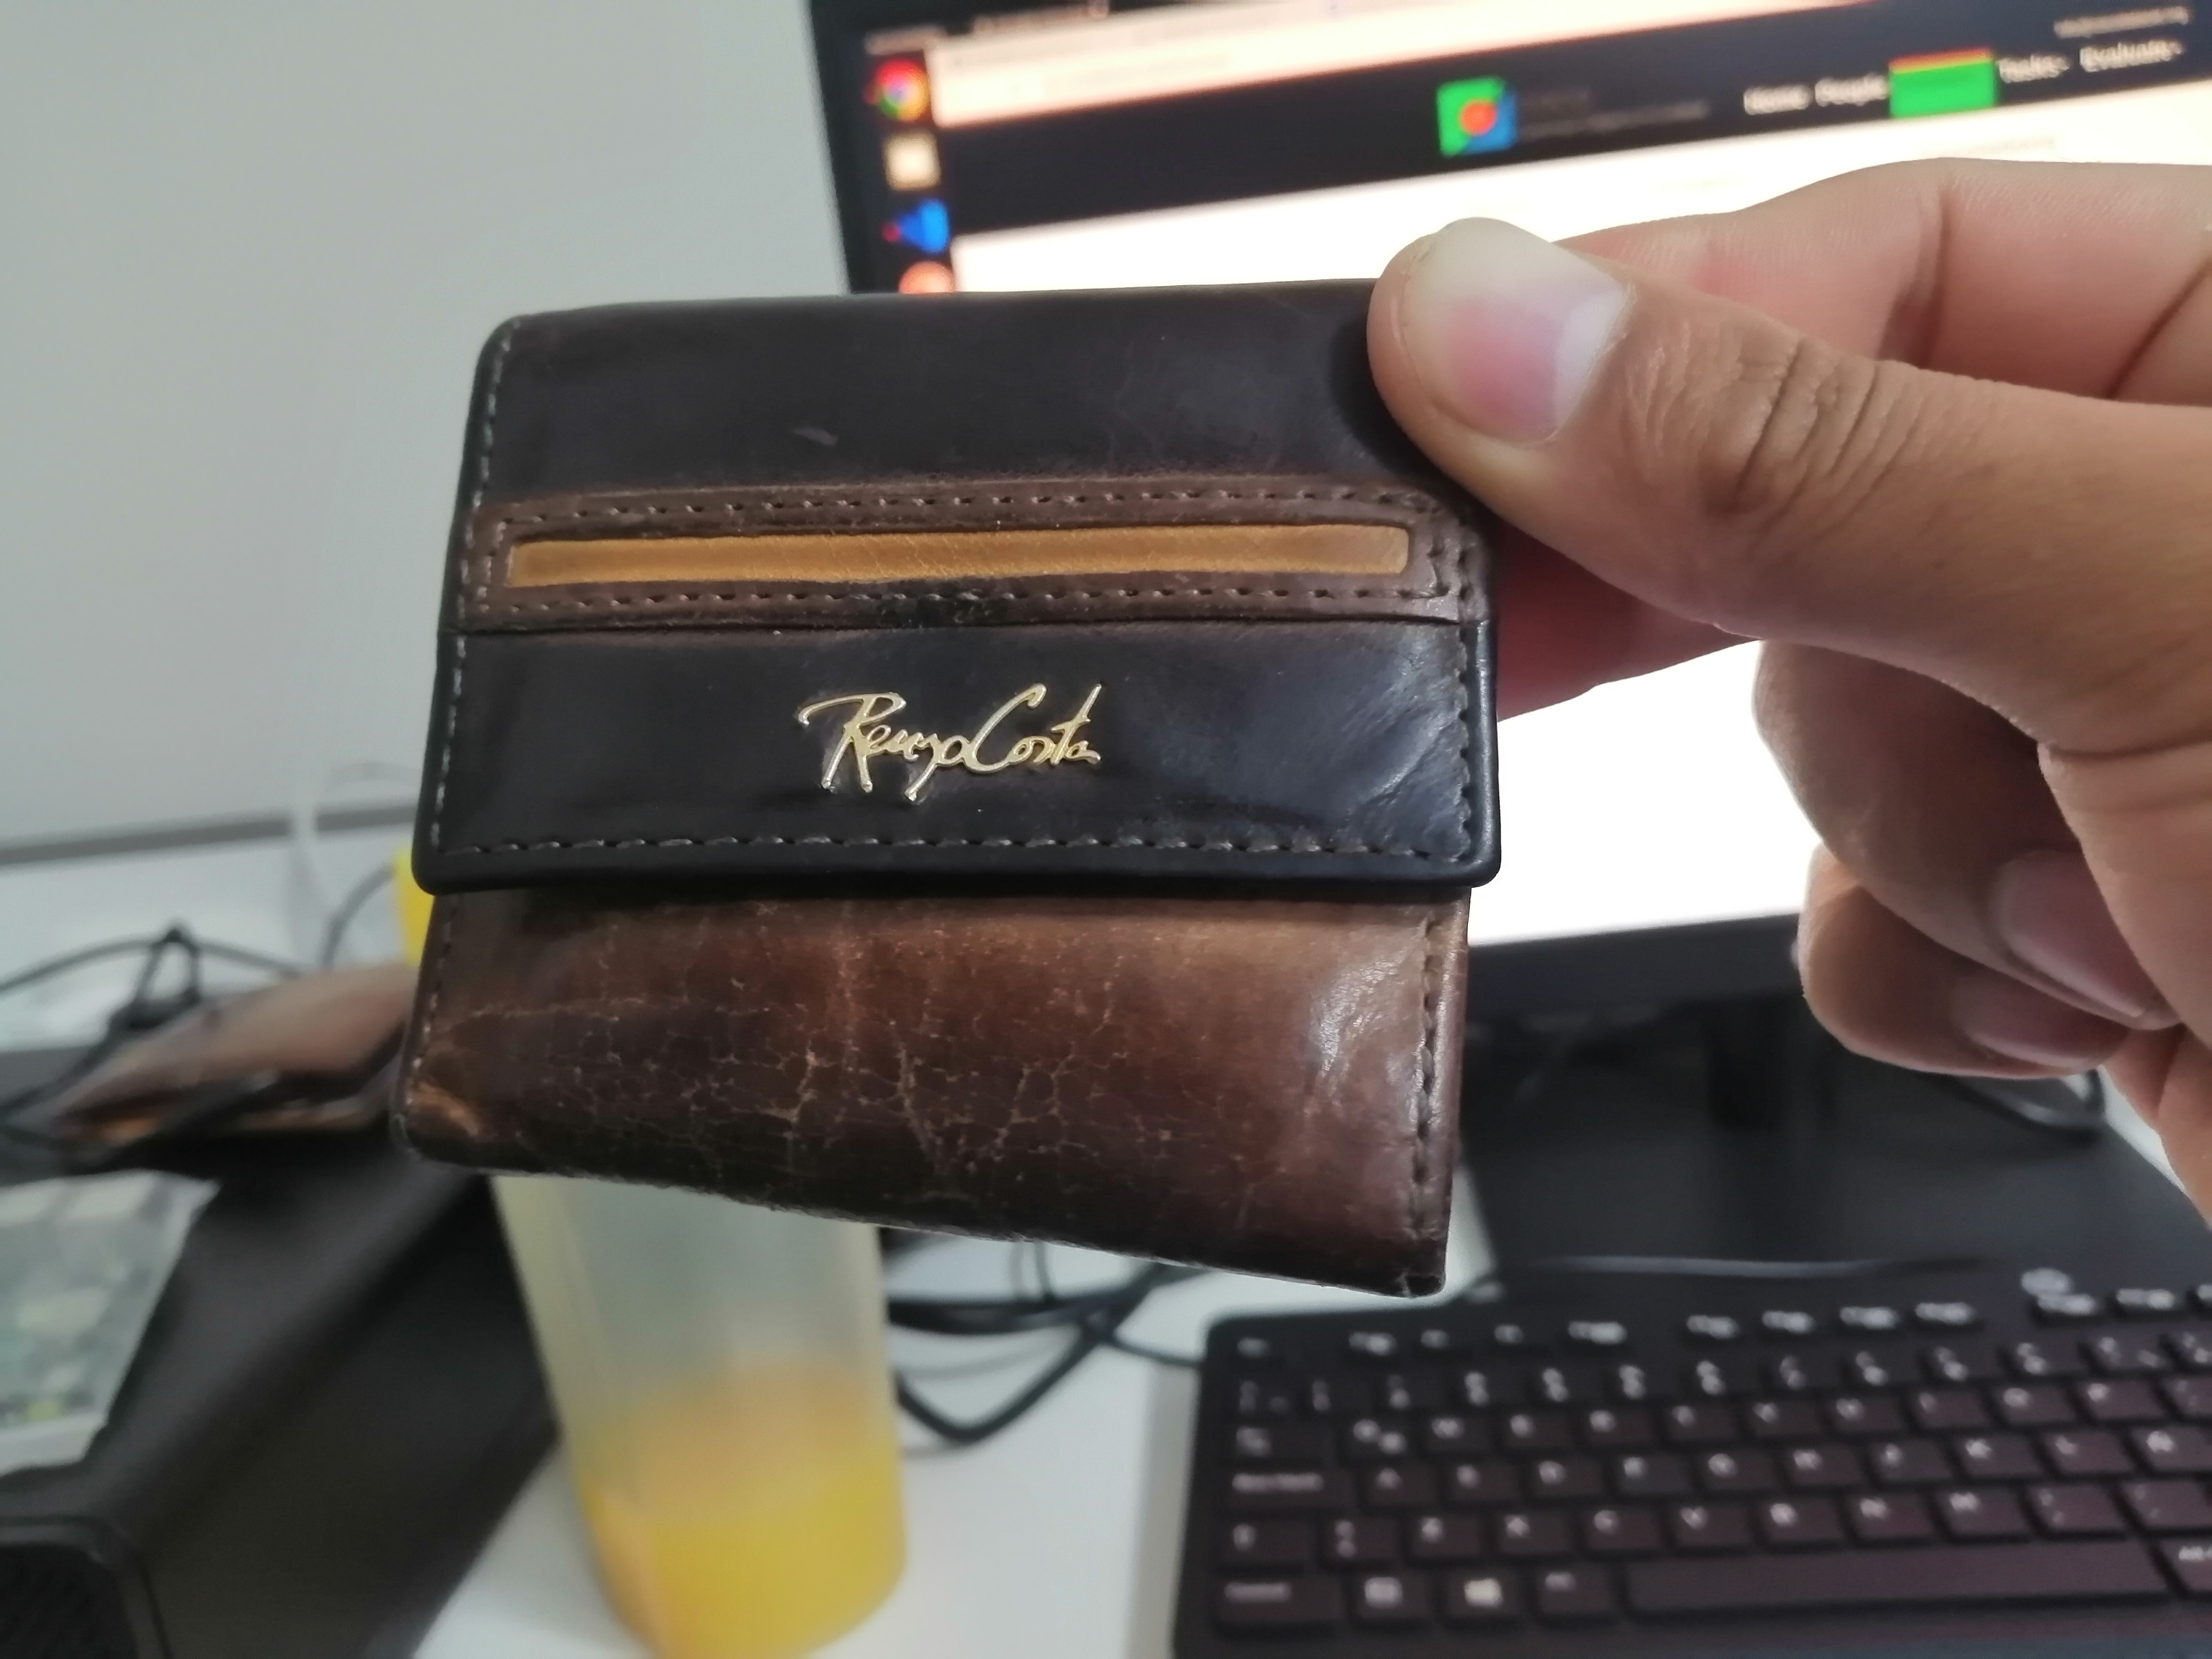monedero: (373, 256, 1503, 1335)
